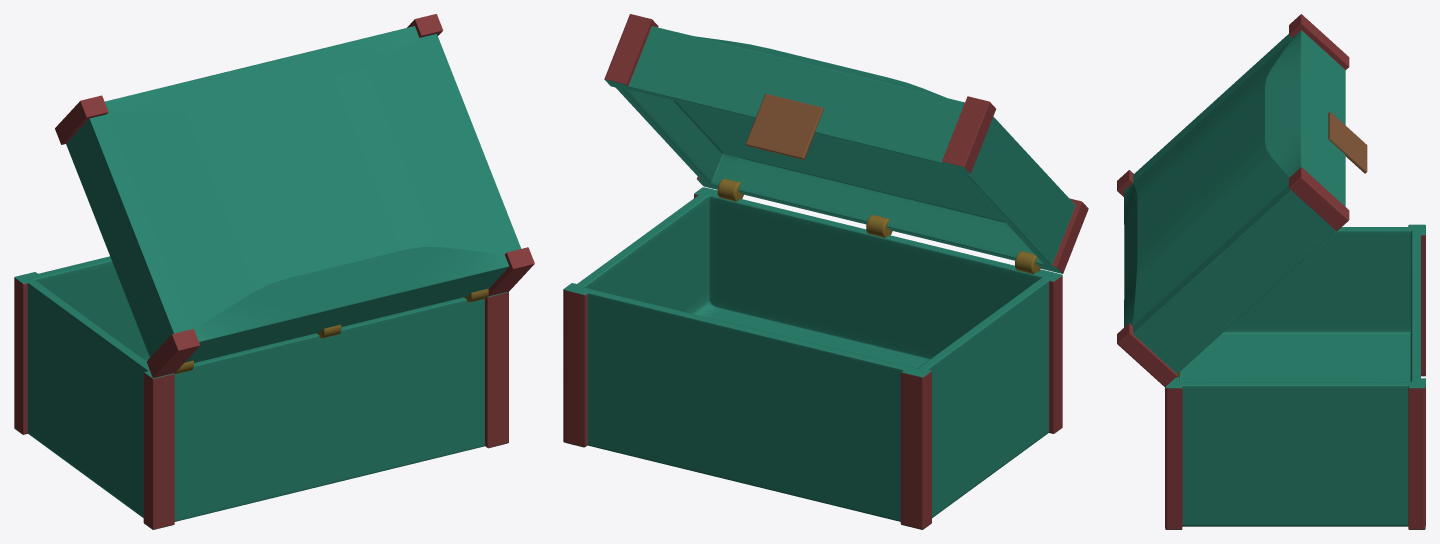
Rendered from TreasureBox.fbx.
3 renders of one model, left to right at view 1: azimuth 30°, elevation 25°; view 2: azimuth 150°, elevation 25°; view 3: azimuth 270°, elevation 25°, orthographic. The views are drawn at different scales.
Parts seen in each view (by area): view 1: TB_Cover (×2), TB_Main (×2); view 2: TB_Main (×2), TB_Cover (×4); view 3: TB_Main (×2), TB_Cover (×3).
Boxes of the visible parts, bbox=[...] form: TB_Cover (×2): bbox=[55, 14, 534, 378]; TB_Main (×2): bbox=[14, 256, 508, 529]; TB_Main (×2): bbox=[563, 187, 1062, 529]; TB_Cover (×4): bbox=[604, 14, 1088, 273]; TB_Main (×2): bbox=[1165, 224, 1425, 529]; TB_Cover (×3): bbox=[1117, 14, 1367, 386].
Size of the model in its own units: 6.16 by 6.21 by 4.92.
